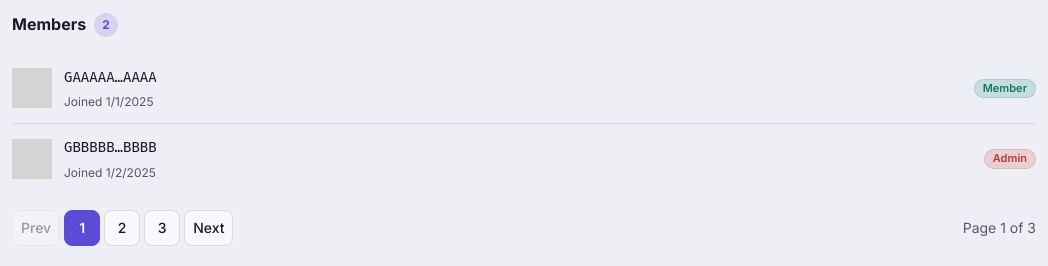
Scenario: MemberList › pagination with local data › paginates local member data
This screenshot has width=1048, height=266.
Click the button with aria-label "Go to next page" at (209, 228), box [184, 210, 233, 246]
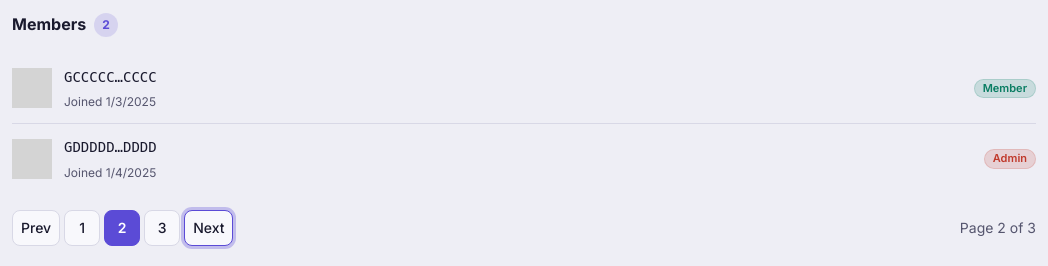
Expected: the text "Page 2 of 3" is shown, [960, 216, 1036, 239]
